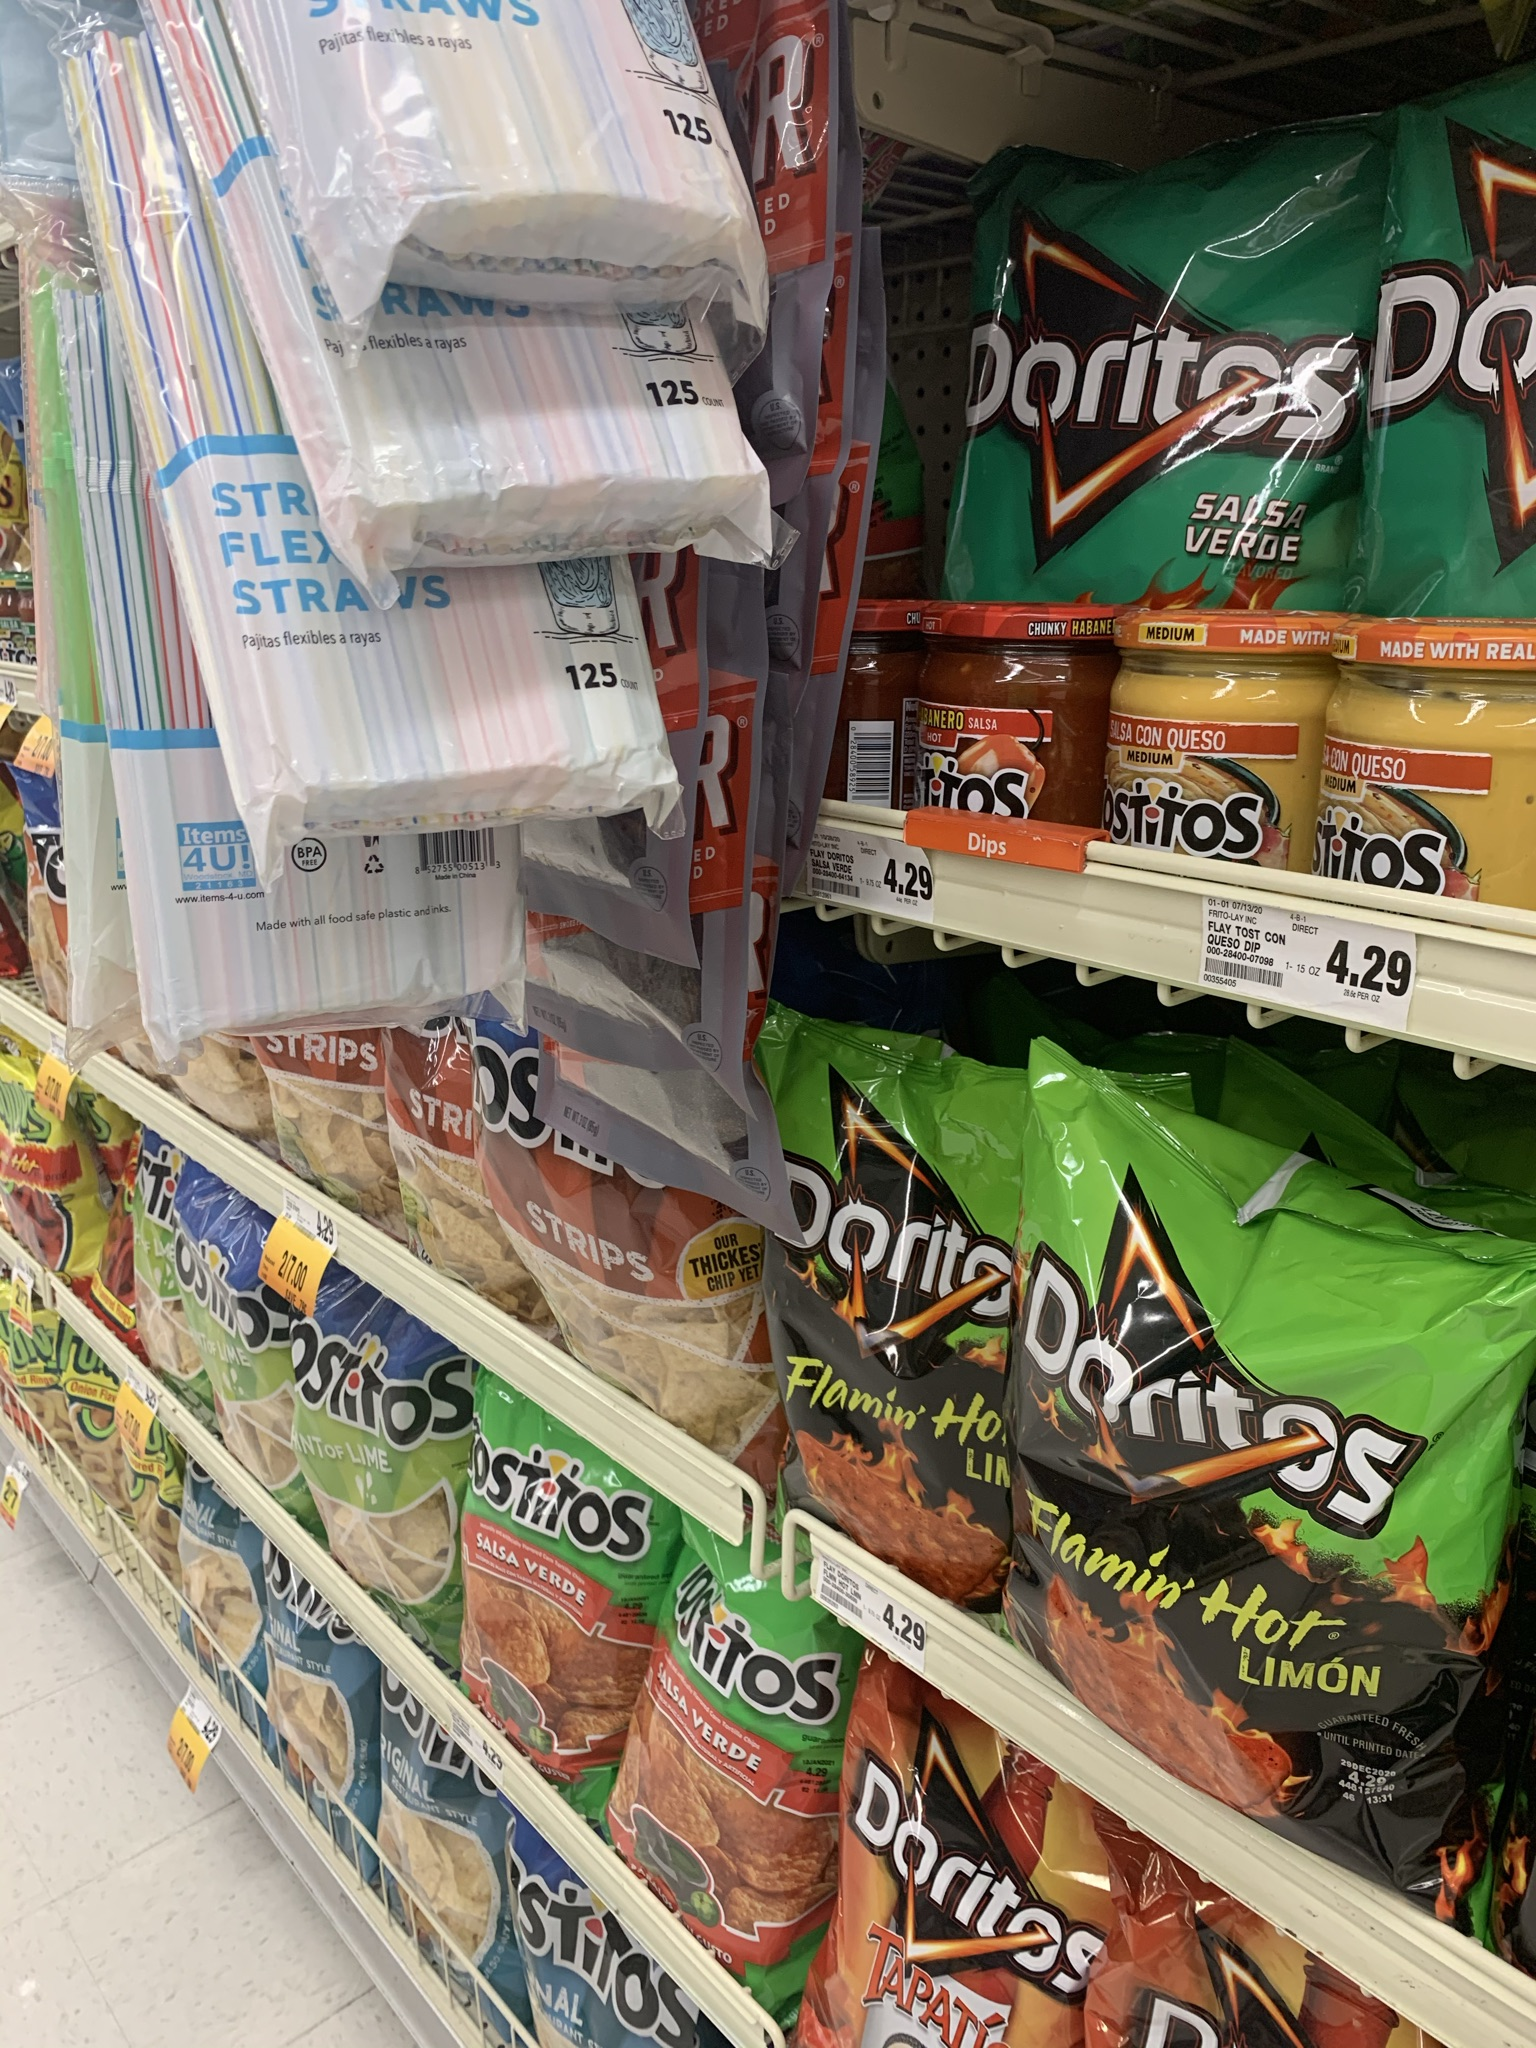doritos chips: (1062, 1071, 1383, 1542), (1021, 216, 1418, 529), (799, 1056, 1012, 1576), (874, 1709, 1134, 2048)
tostitos chips: (474, 1380, 642, 1804), (294, 1271, 470, 1621), (684, 1564, 792, 2009), (174, 1180, 292, 1451)
ww: (278, 1571, 394, 1850), (407, 1709, 515, 2000), (537, 1895, 647, 2048)
